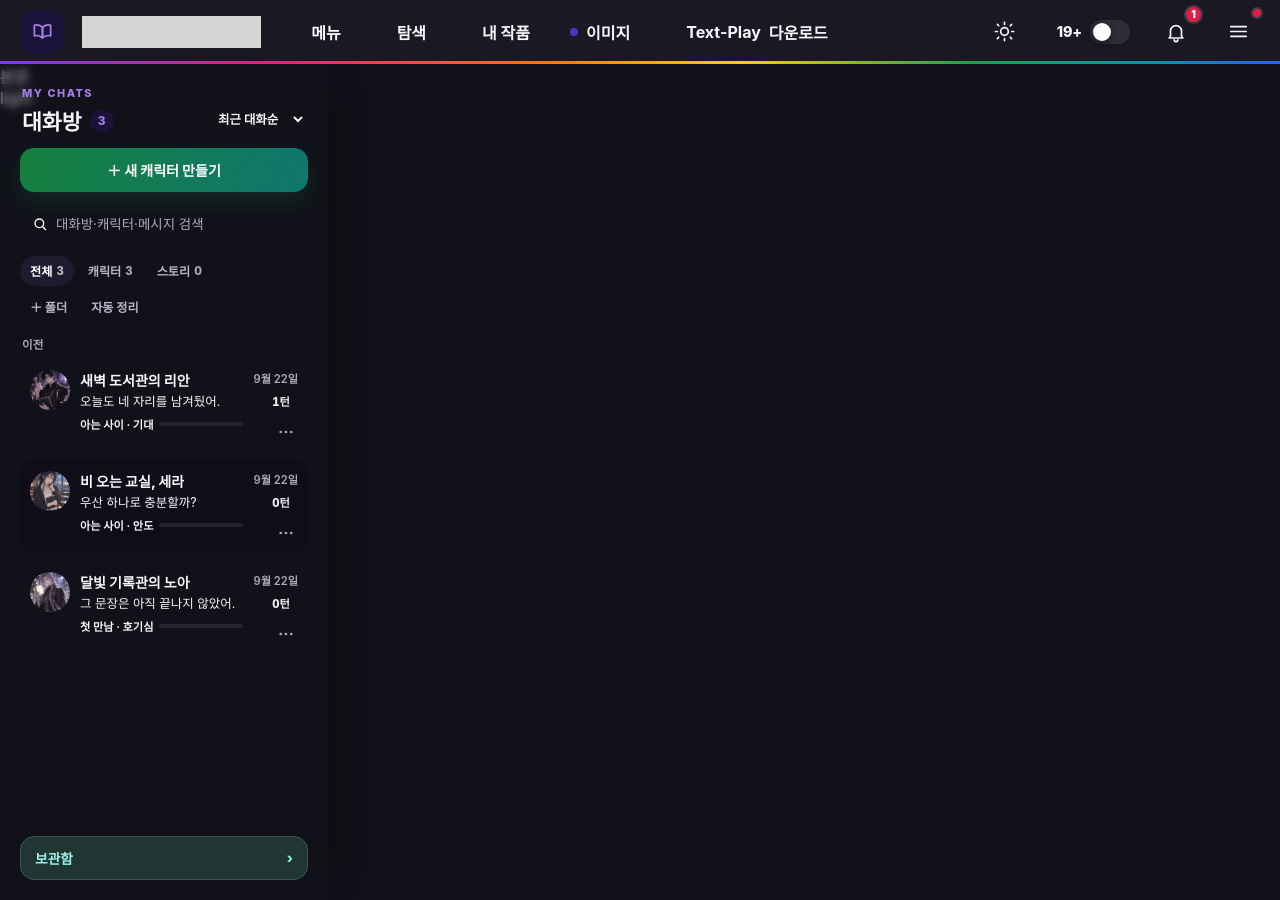
Scenario: 헤더 다크 모드 스위치 › 19+ 스위치 왼쪽에 있고, 누르면 사이트 전체에 다크 모드를 적용·저장한다
The width and height of the screenshot is (1280, 900).
Step 1. Click the switch named "다크 모드" → (1005, 32), box [983, 10, 1027, 54]
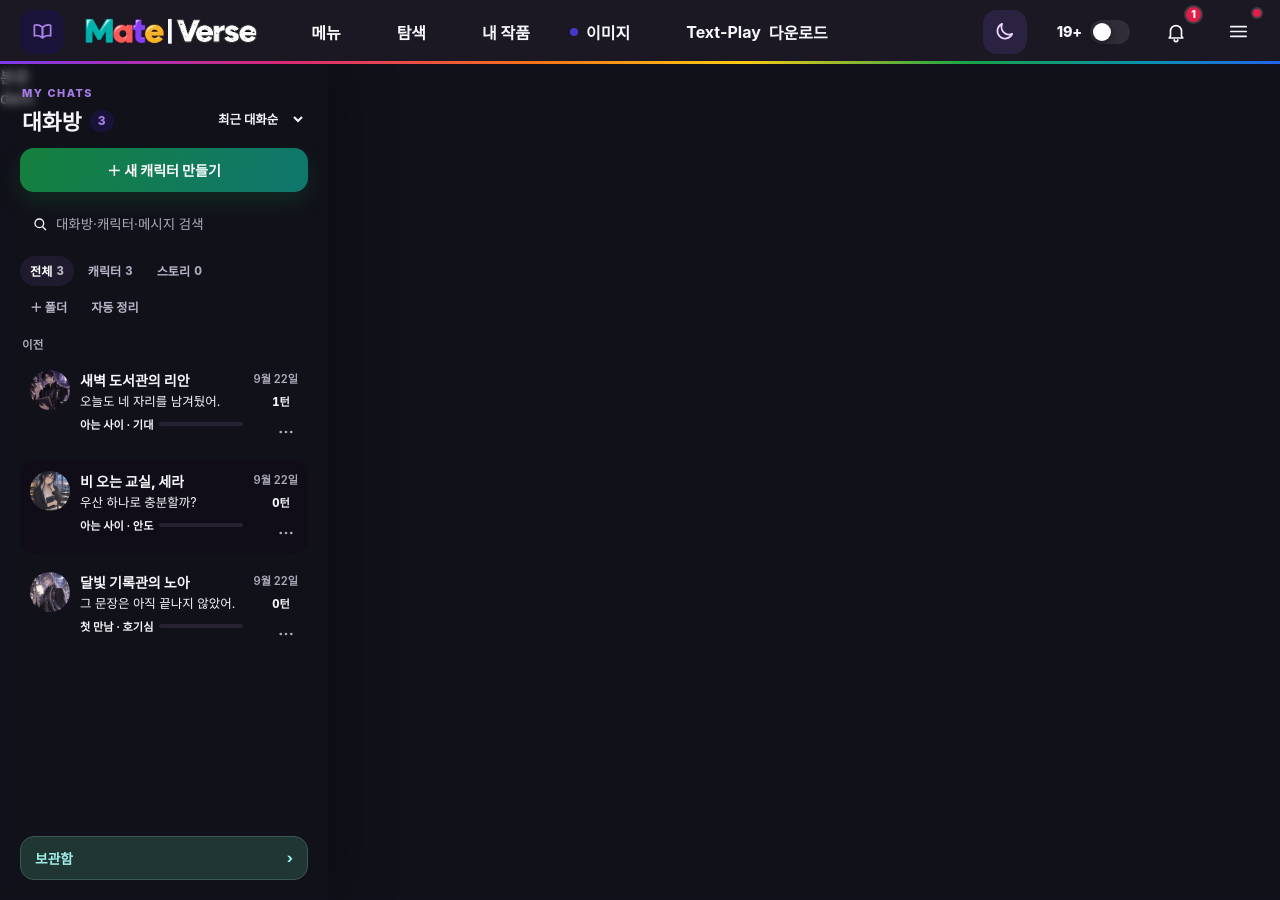
Expected: the text "dark" is shown, [0, 88, 34, 108]
Expected: the text named "테마 설정" reads "dark", [0, 88, 34, 108]
